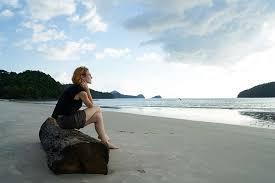FallenBody: (51, 54, 120, 152)
